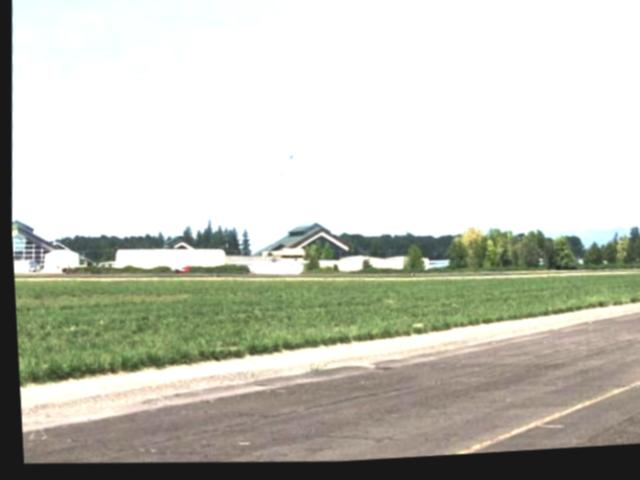flying wing: (272, 154, 294, 201)
